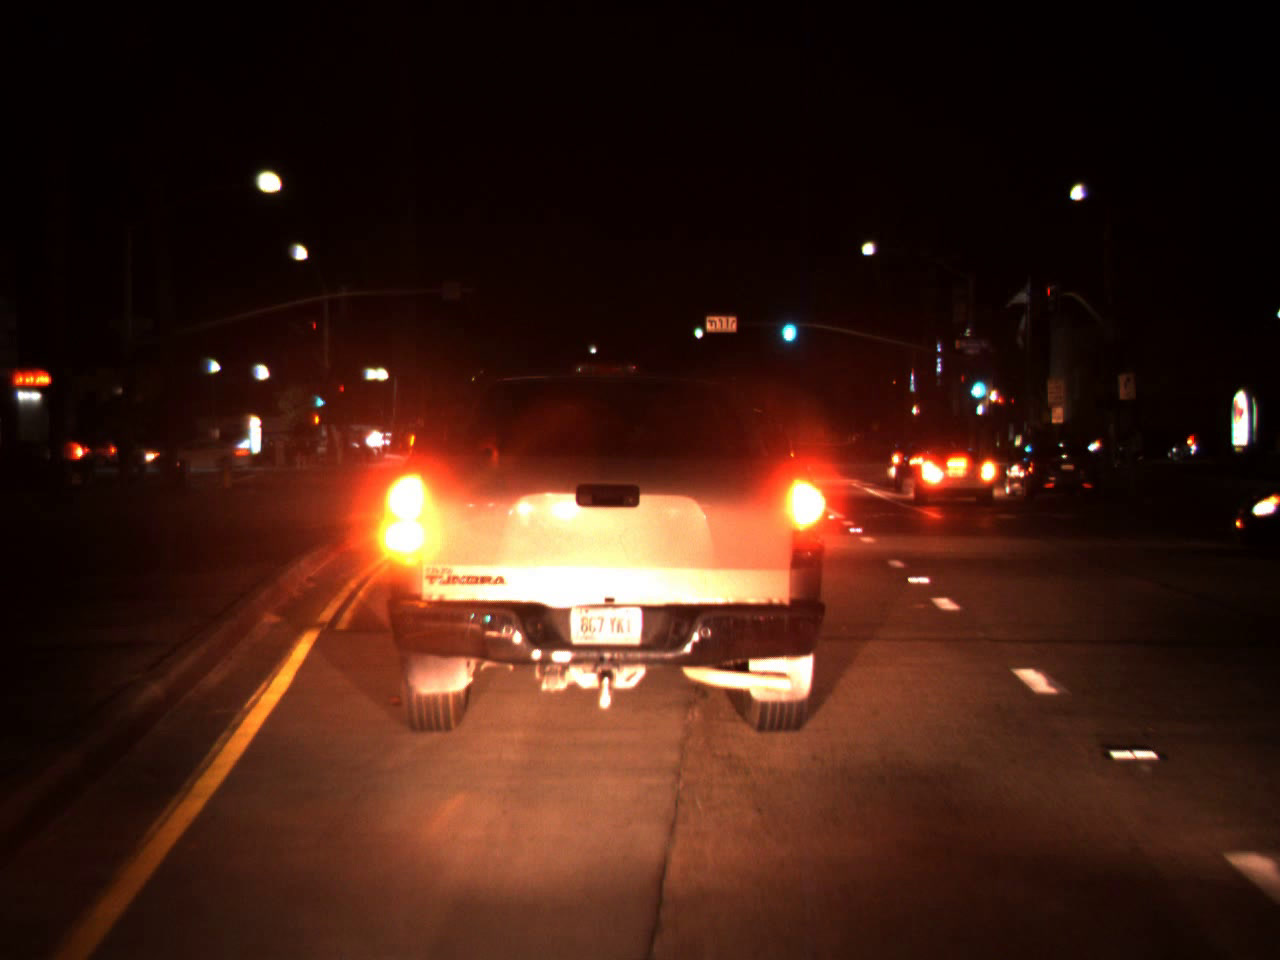go: (776, 304, 799, 346), (967, 362, 988, 404), (690, 312, 703, 342), (314, 388, 324, 409)
